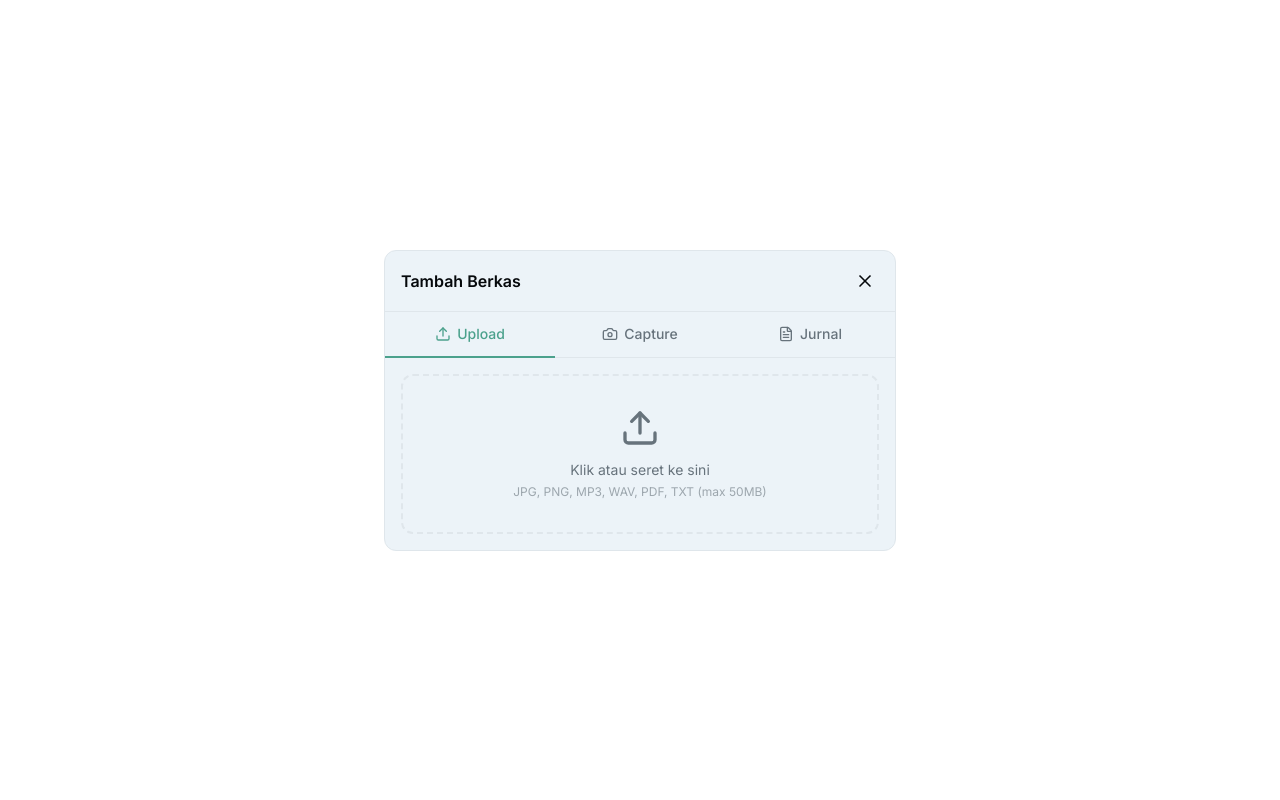
VaultUploadDialog › shows capture buttons on Capture tab
Step 1. Click the tab "Capture" → click(640, 334), box [555, 312, 725, 358]
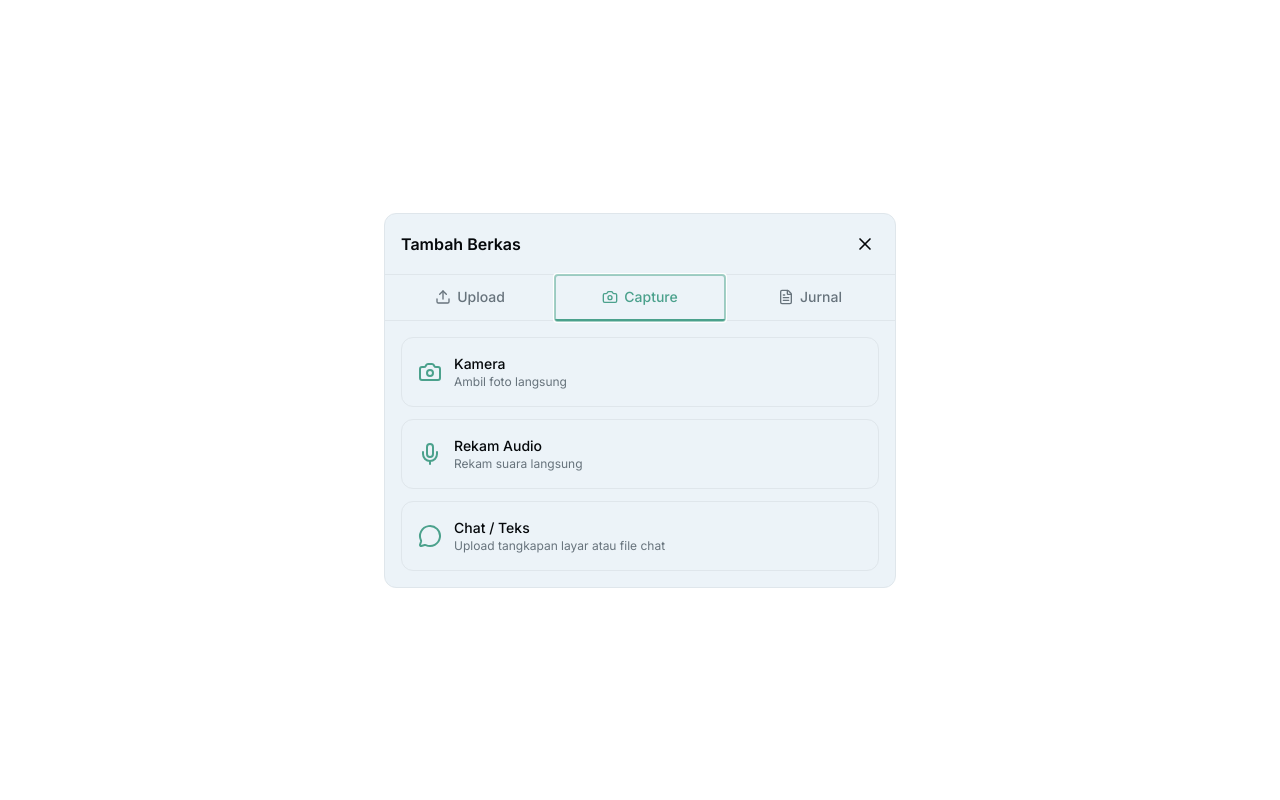
Check: the text "Kamera" is shown, box [454, 354, 506, 372]
Check: the text "Rekam Audio" is shown, box [454, 436, 542, 454]
Check: the text "Chat / Teks" is shown, box [454, 518, 530, 536]
